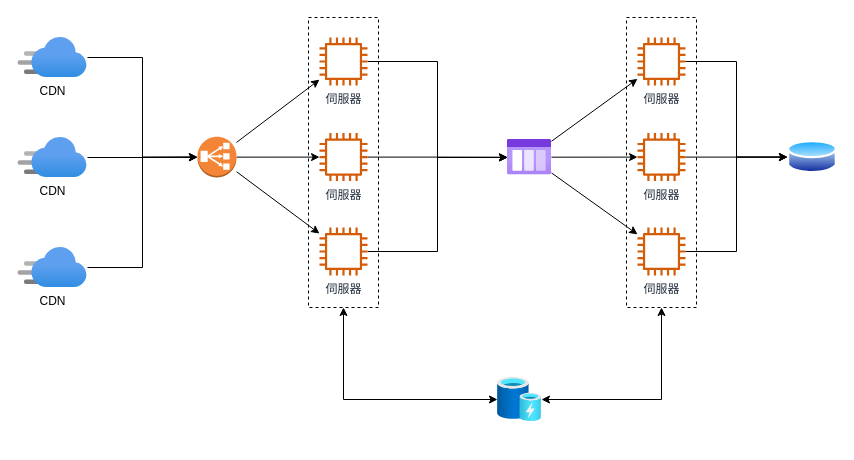
Image size: 854x460. Some labels were removed from this diagram. The box of each missing label's shape, as (x1, y1, x2, y2) in pixels:
消息佇列: (507, 139, 551, 175)
記憶體緩存系統: (497, 377, 541, 421)
負載均衡器: (196, 136, 236, 178)
資料庫: (787, 138, 837, 175)
